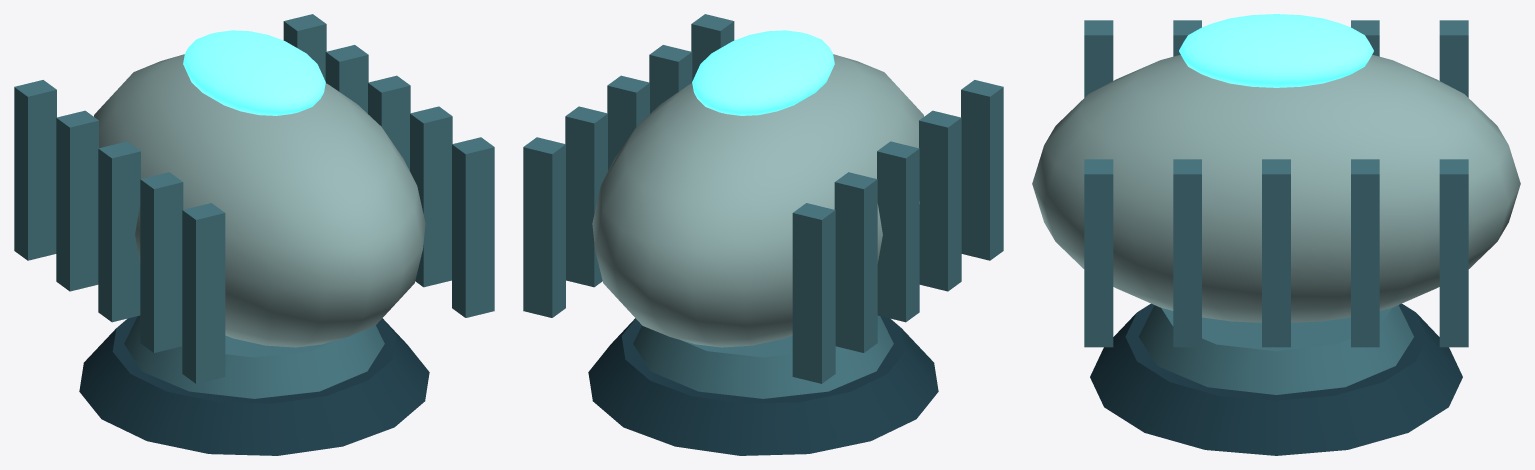
File: pelagic_high_pressure--power_unit.glb
The picture shows the model from 3 angles, left to right: view 1: azimuth 30°, elevation 25°; view 2: azimuth 150°, elevation 25°; view 3: azimuth 270°, elevation 25°; orthographic projection. The views are drawn at different scales.
Parts seen in each view (by area): view 1: pressure_module_housing_3, mount_adapter_1, rotation_bearing_2, power_status_14, cooling_fin_8, cooling_fin_7, cooling_fin_4, cooling_fin_13, cooling_fin_5, cooling_fin_6, cooling_fin_12, cooling_fin_11 (+2 smaller); view 2: pressure_module_housing_3, mount_adapter_1, rotation_bearing_2, power_status_14, cooling_fin_4, cooling_fin_5, cooling_fin_8, cooling_fin_9, cooling_fin_7, cooling_fin_6, cooling_fin_10, cooling_fin_11 (+2 smaller); view 3: pressure_module_housing_3, mount_adapter_1, rotation_bearing_2, power_status_14, cooling_fin_9, cooling_fin_13, cooling_fin_10, cooling_fin_11, cooling_fin_12, cooling_fin_4, cooling_fin_8, cooling_fin_5 (+1 smaller).
Part boxes in pixels (x1,y1,x2,y2): pressure_module_housing_3: (94, 54, 425, 347); mount_adapter_1: (79, 316, 429, 455); rotation_bearing_2: (124, 315, 384, 398); power_status_14: (183, 30, 325, 115); cooling_fin_8: (182, 203, 225, 383); cooling_fin_7: (140, 172, 183, 352); cooling_fin_4: (14, 80, 56, 260); cooling_fin_13: (452, 137, 494, 317); cooling_fin_5: (56, 110, 98, 291); cooling_fin_6: (98, 141, 140, 322); cooling_fin_12: (410, 106, 452, 287); cooling_fin_11: (368, 75, 410, 170); pressure_module_housing_3: (592, 54, 923, 347); mount_adapter_1: (588, 316, 938, 455); rotation_bearing_2: (633, 315, 893, 398); power_status_14: (692, 30, 834, 115); cooling_fin_4: (792, 203, 835, 383); cooling_fin_5: (834, 172, 877, 352); cooling_fin_8: (961, 80, 1003, 260); cooling_fin_9: (523, 137, 565, 317); cooling_fin_7: (919, 110, 961, 291); cooling_fin_6: (877, 141, 919, 322); cooling_fin_10: (565, 106, 607, 287); cooling_fin_11: (607, 75, 649, 170); pressure_module_housing_3: (1032, 54, 1520, 322); mount_adapter_1: (1090, 303, 1462, 455); rotation_bearing_2: (1139, 305, 1413, 394); power_status_14: (1179, 14, 1373, 87); cooling_fin_9: (1439, 159, 1468, 347); cooling_fin_13: (1084, 159, 1113, 347); cooling_fin_10: (1351, 159, 1379, 347); cooling_fin_11: (1262, 159, 1290, 347); cooling_fin_12: (1173, 159, 1201, 347); cooling_fin_4: (1439, 20, 1468, 97); cooling_fin_8: (1084, 20, 1113, 97); cooling_fin_5: (1351, 20, 1379, 56).
Bounding box in the file's own units: 10.08 × 10.44 × 13.2.
